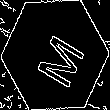M_NW: (26, 23, 84, 87)
